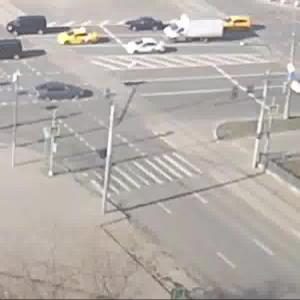car: (170, 19, 215, 42), (8, 14, 48, 38), (36, 84, 86, 102), (124, 41, 176, 57), (213, 15, 255, 33), (123, 18, 165, 34), (62, 30, 100, 47)
